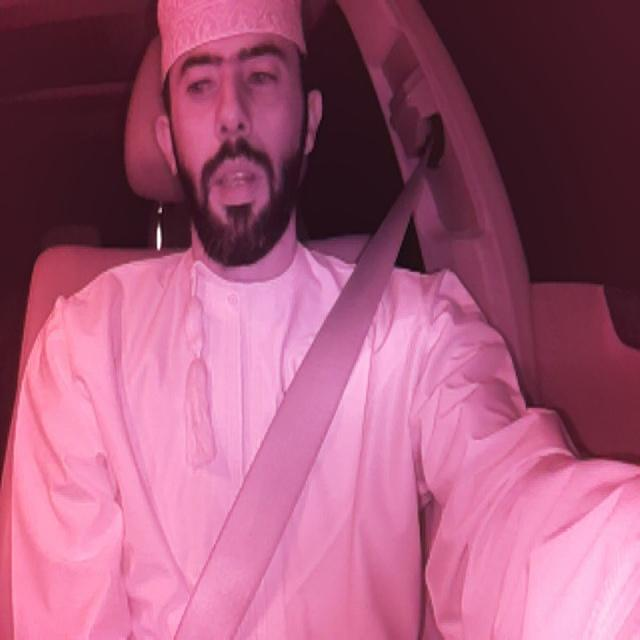seatbelt: (175, 163, 422, 638)
